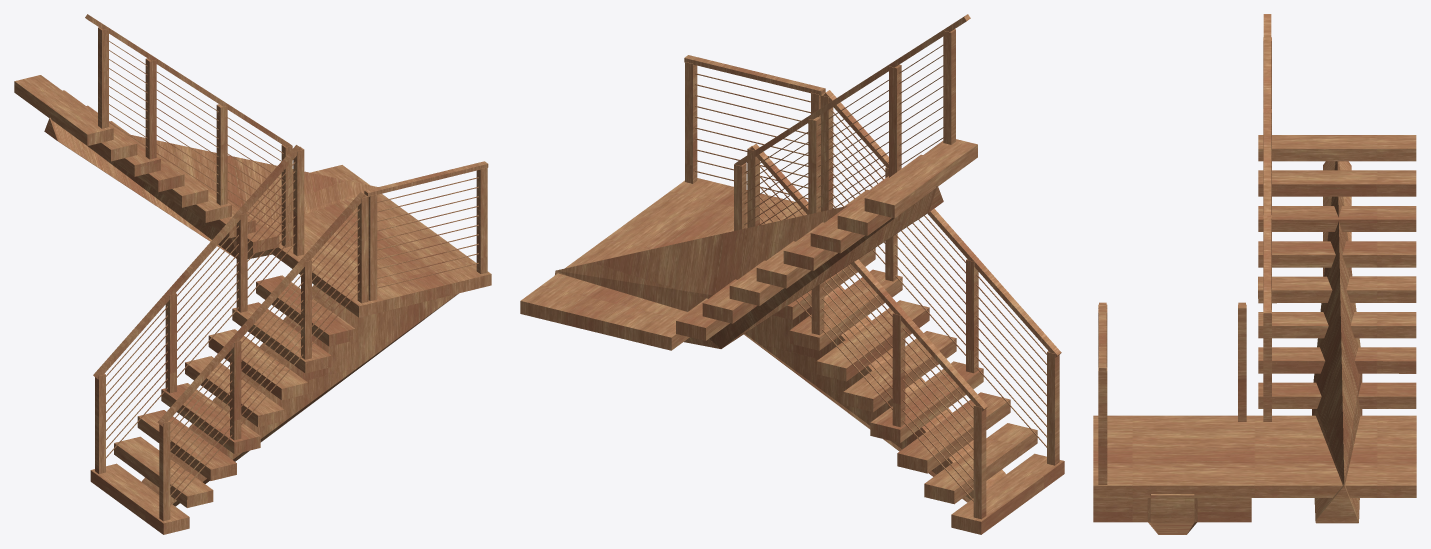
File: stairs.glb
3 views of the same model, side by side, from view 1: azimuth 30°, elevation 25°; view 2: azimuth 150°, elevation 25°; view 3: azimuth 270°, elevation 25° (orthographic). The views are drawn at different scales.
Parts seen in each view (by area): view 1: geometry_0; view 2: geometry_0; view 3: geometry_0.
Boxes of the visible parts, box(x1,y1,x2,y2) form: geometry_0: box(14, 14, 491, 534); geometry_0: box(520, 14, 1064, 534); geometry_0: box(1093, 14, 1416, 534).
Size of the model in its own units: 3.06 by 4.12 by 2.38.
1 material, 1 textured.
